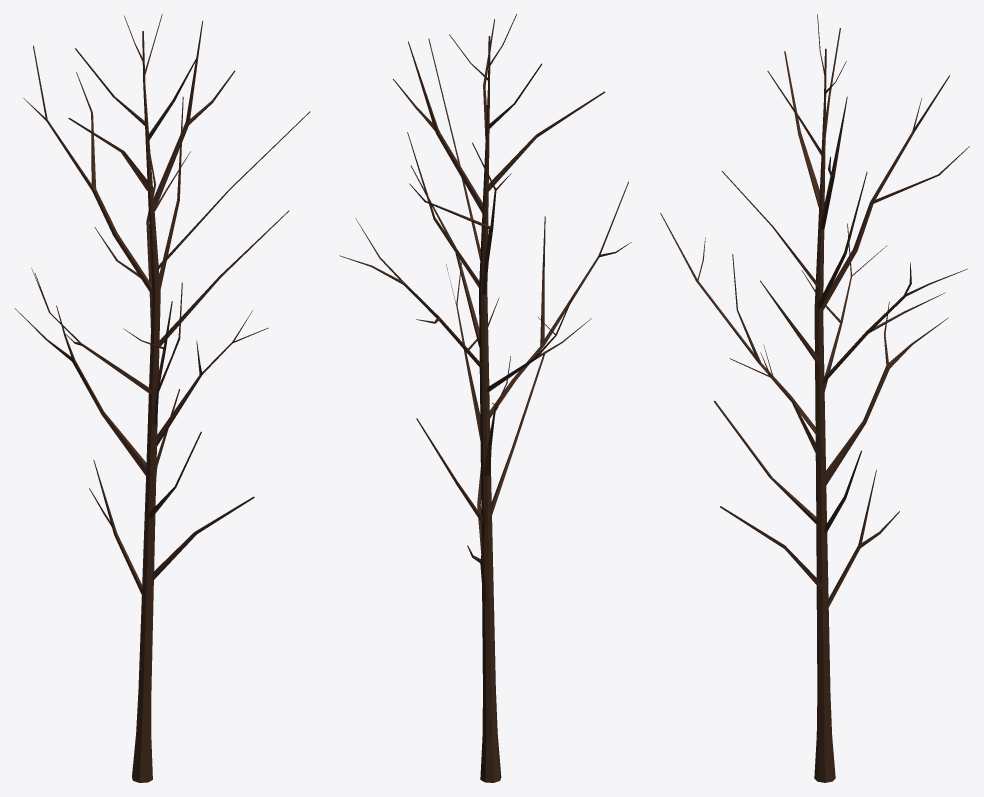
File: Dead_Tree_01.fbx
3 renders of one model, left to right at view 1: azimuth 30°, elevation 25°; view 2: azimuth 150°, elevation 25°; view 3: azimuth 270°, elevation 25°, orthographic. The views are drawn at different scales.
Visible parts, largest first — view 1: SM_Town_Tree_Dead_01.mo; view 2: SM_Town_Tree_Dead_01.mo; view 3: SM_Town_Tree_Dead_01.mo.
Boxes of the visible parts, x1,y1,x2,y2 form: SM_Town_Tree_Dead_01.mo: (14,14,310,782); SM_Town_Tree_Dead_01.mo: (339,14,631,782); SM_Town_Tree_Dead_01.mo: (660,14,969,782).
Bounding box in the file's own units: 151 × 525 × 196.
Materials: 1 (1 with a texture image).
